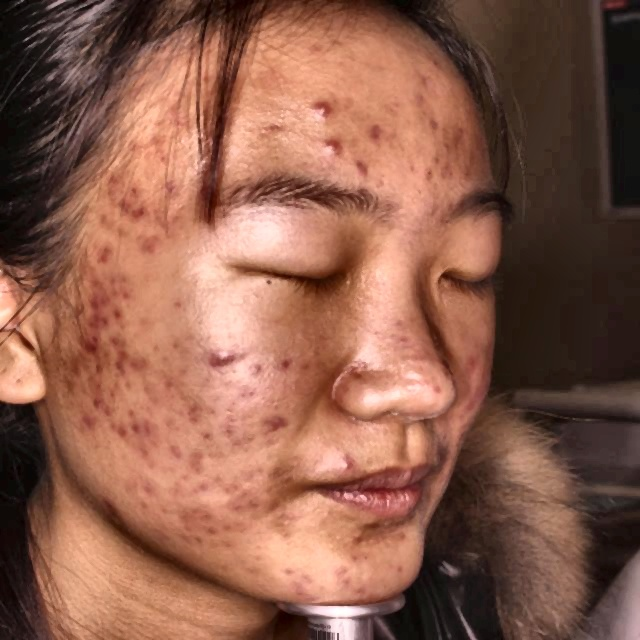papule: (376, 519, 429, 556), (213, 342, 246, 384), (434, 119, 473, 152), (346, 519, 376, 560), (96, 500, 133, 530), (79, 313, 109, 349), (64, 260, 102, 288), (128, 417, 166, 445), (76, 286, 109, 318), (320, 134, 352, 167), (155, 100, 185, 132), (130, 238, 166, 263), (106, 296, 134, 326), (331, 452, 363, 477), (416, 160, 449, 184), (401, 69, 426, 99), (134, 475, 169, 496), (93, 241, 122, 265), (106, 411, 128, 440), (264, 411, 290, 434), (161, 434, 188, 456), (96, 400, 124, 421), (117, 354, 142, 377), (105, 278, 128, 302), (100, 170, 126, 191), (109, 339, 134, 360), (75, 400, 96, 425), (122, 207, 153, 222), (360, 124, 394, 134), (122, 184, 140, 201), (347, 154, 361, 173), (306, 99, 320, 117)
